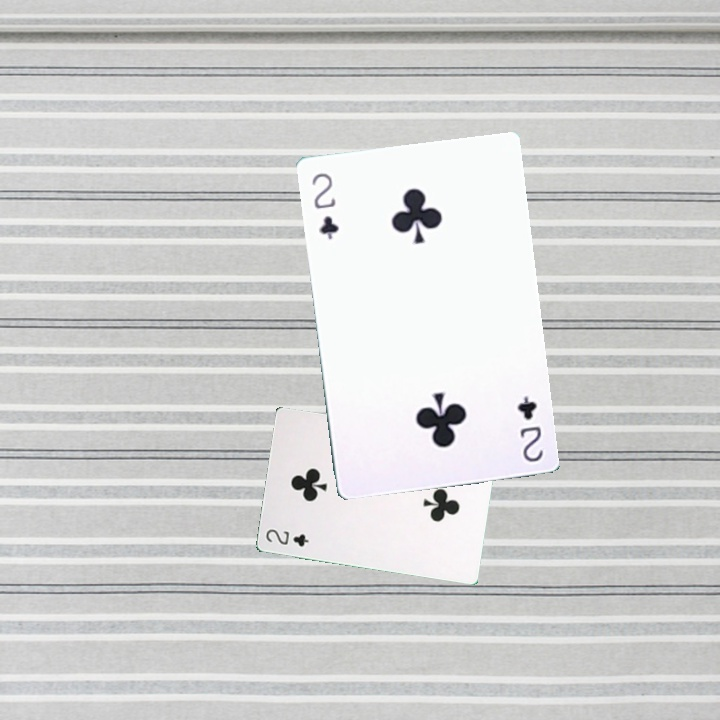2c: (307, 169, 342, 242), (513, 391, 546, 465), (262, 525, 312, 549)
